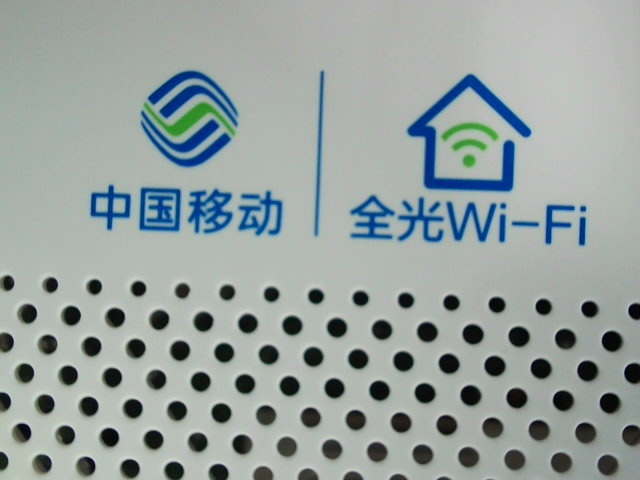BJ_QuanGuangMobile: (81, 64, 587, 254)
